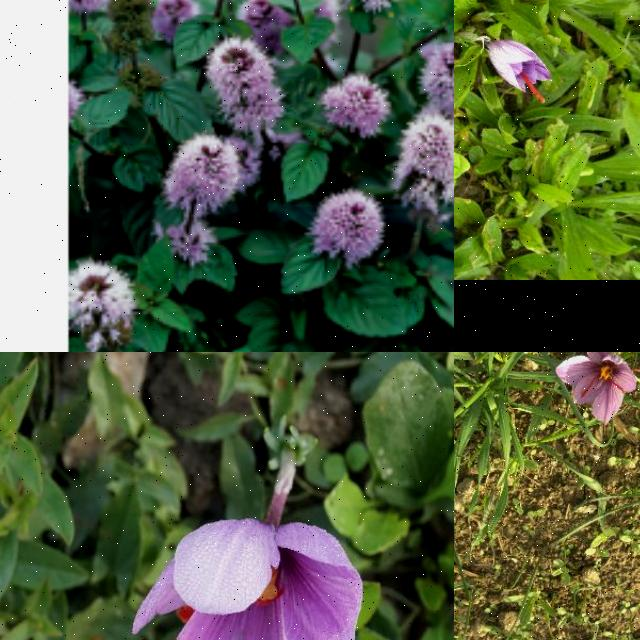flower: (132, 519, 364, 640), (555, 352, 640, 424), (491, 40, 554, 102)
